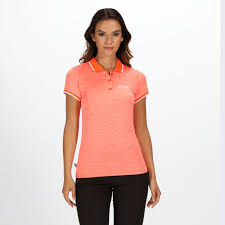C_polo shirt: (57, 59, 163, 177)
